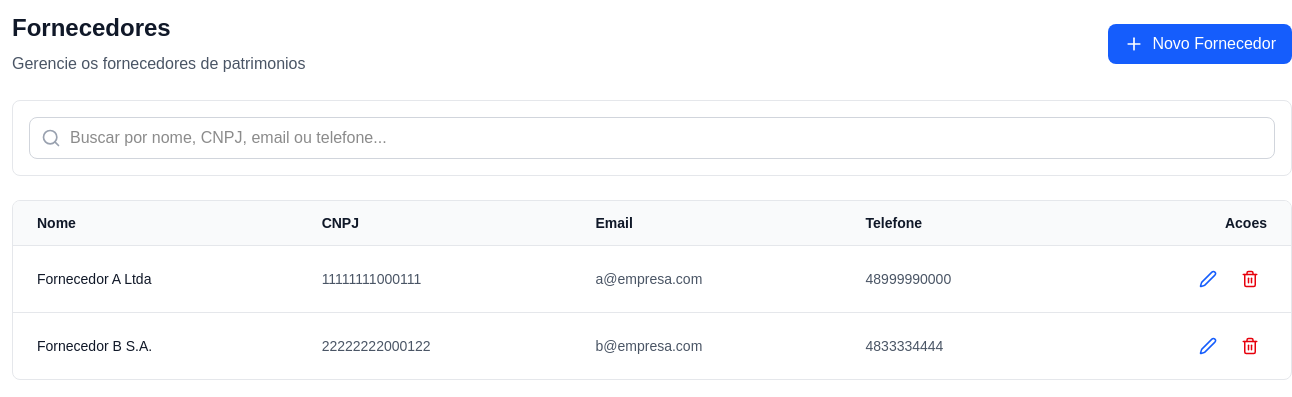
Test: FornecedoresList › delete com sucesso remove da lista e exibe toast
Expected: the text "Fornecedor A Ltda" is shown, [13,246,298,312]
Click the button without text in the row of "Fornecedor A Ltda".
click(1250, 279)  # box [1233,262,1267,296]
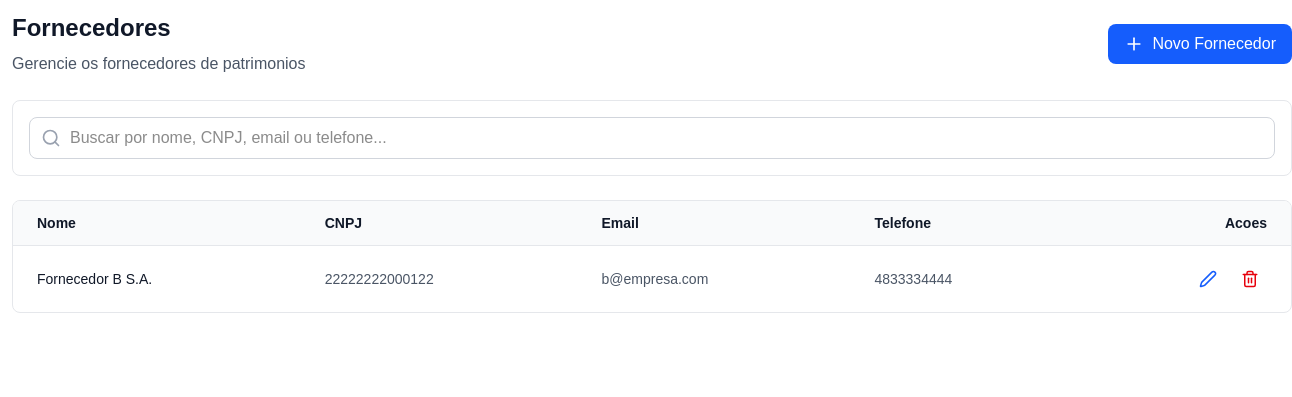
Expected: the text "Fornecedor A Ltda" is gone
